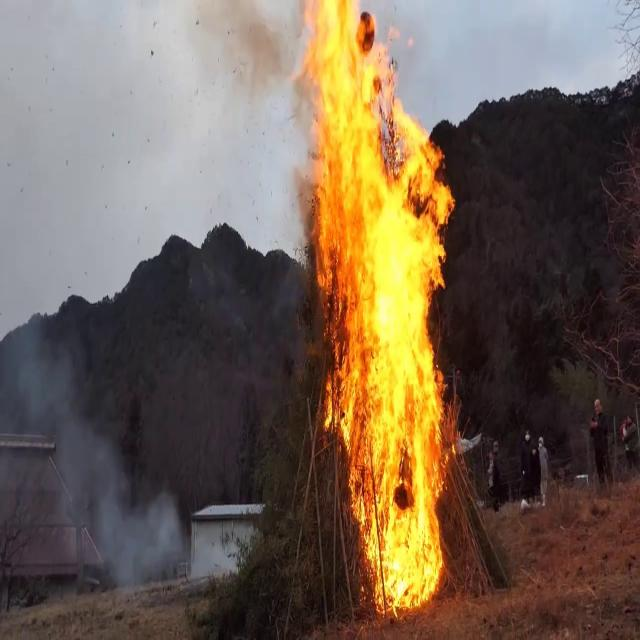Fire: (295, 2, 464, 622)
Smoke: (1, 310, 178, 595)
